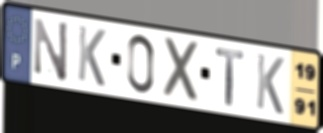0: (126, 33, 155, 95)
K: (76, 23, 108, 90), (254, 51, 286, 118)
N: (33, 16, 70, 85)
T: (214, 46, 246, 109)
X: (163, 34, 202, 106)
